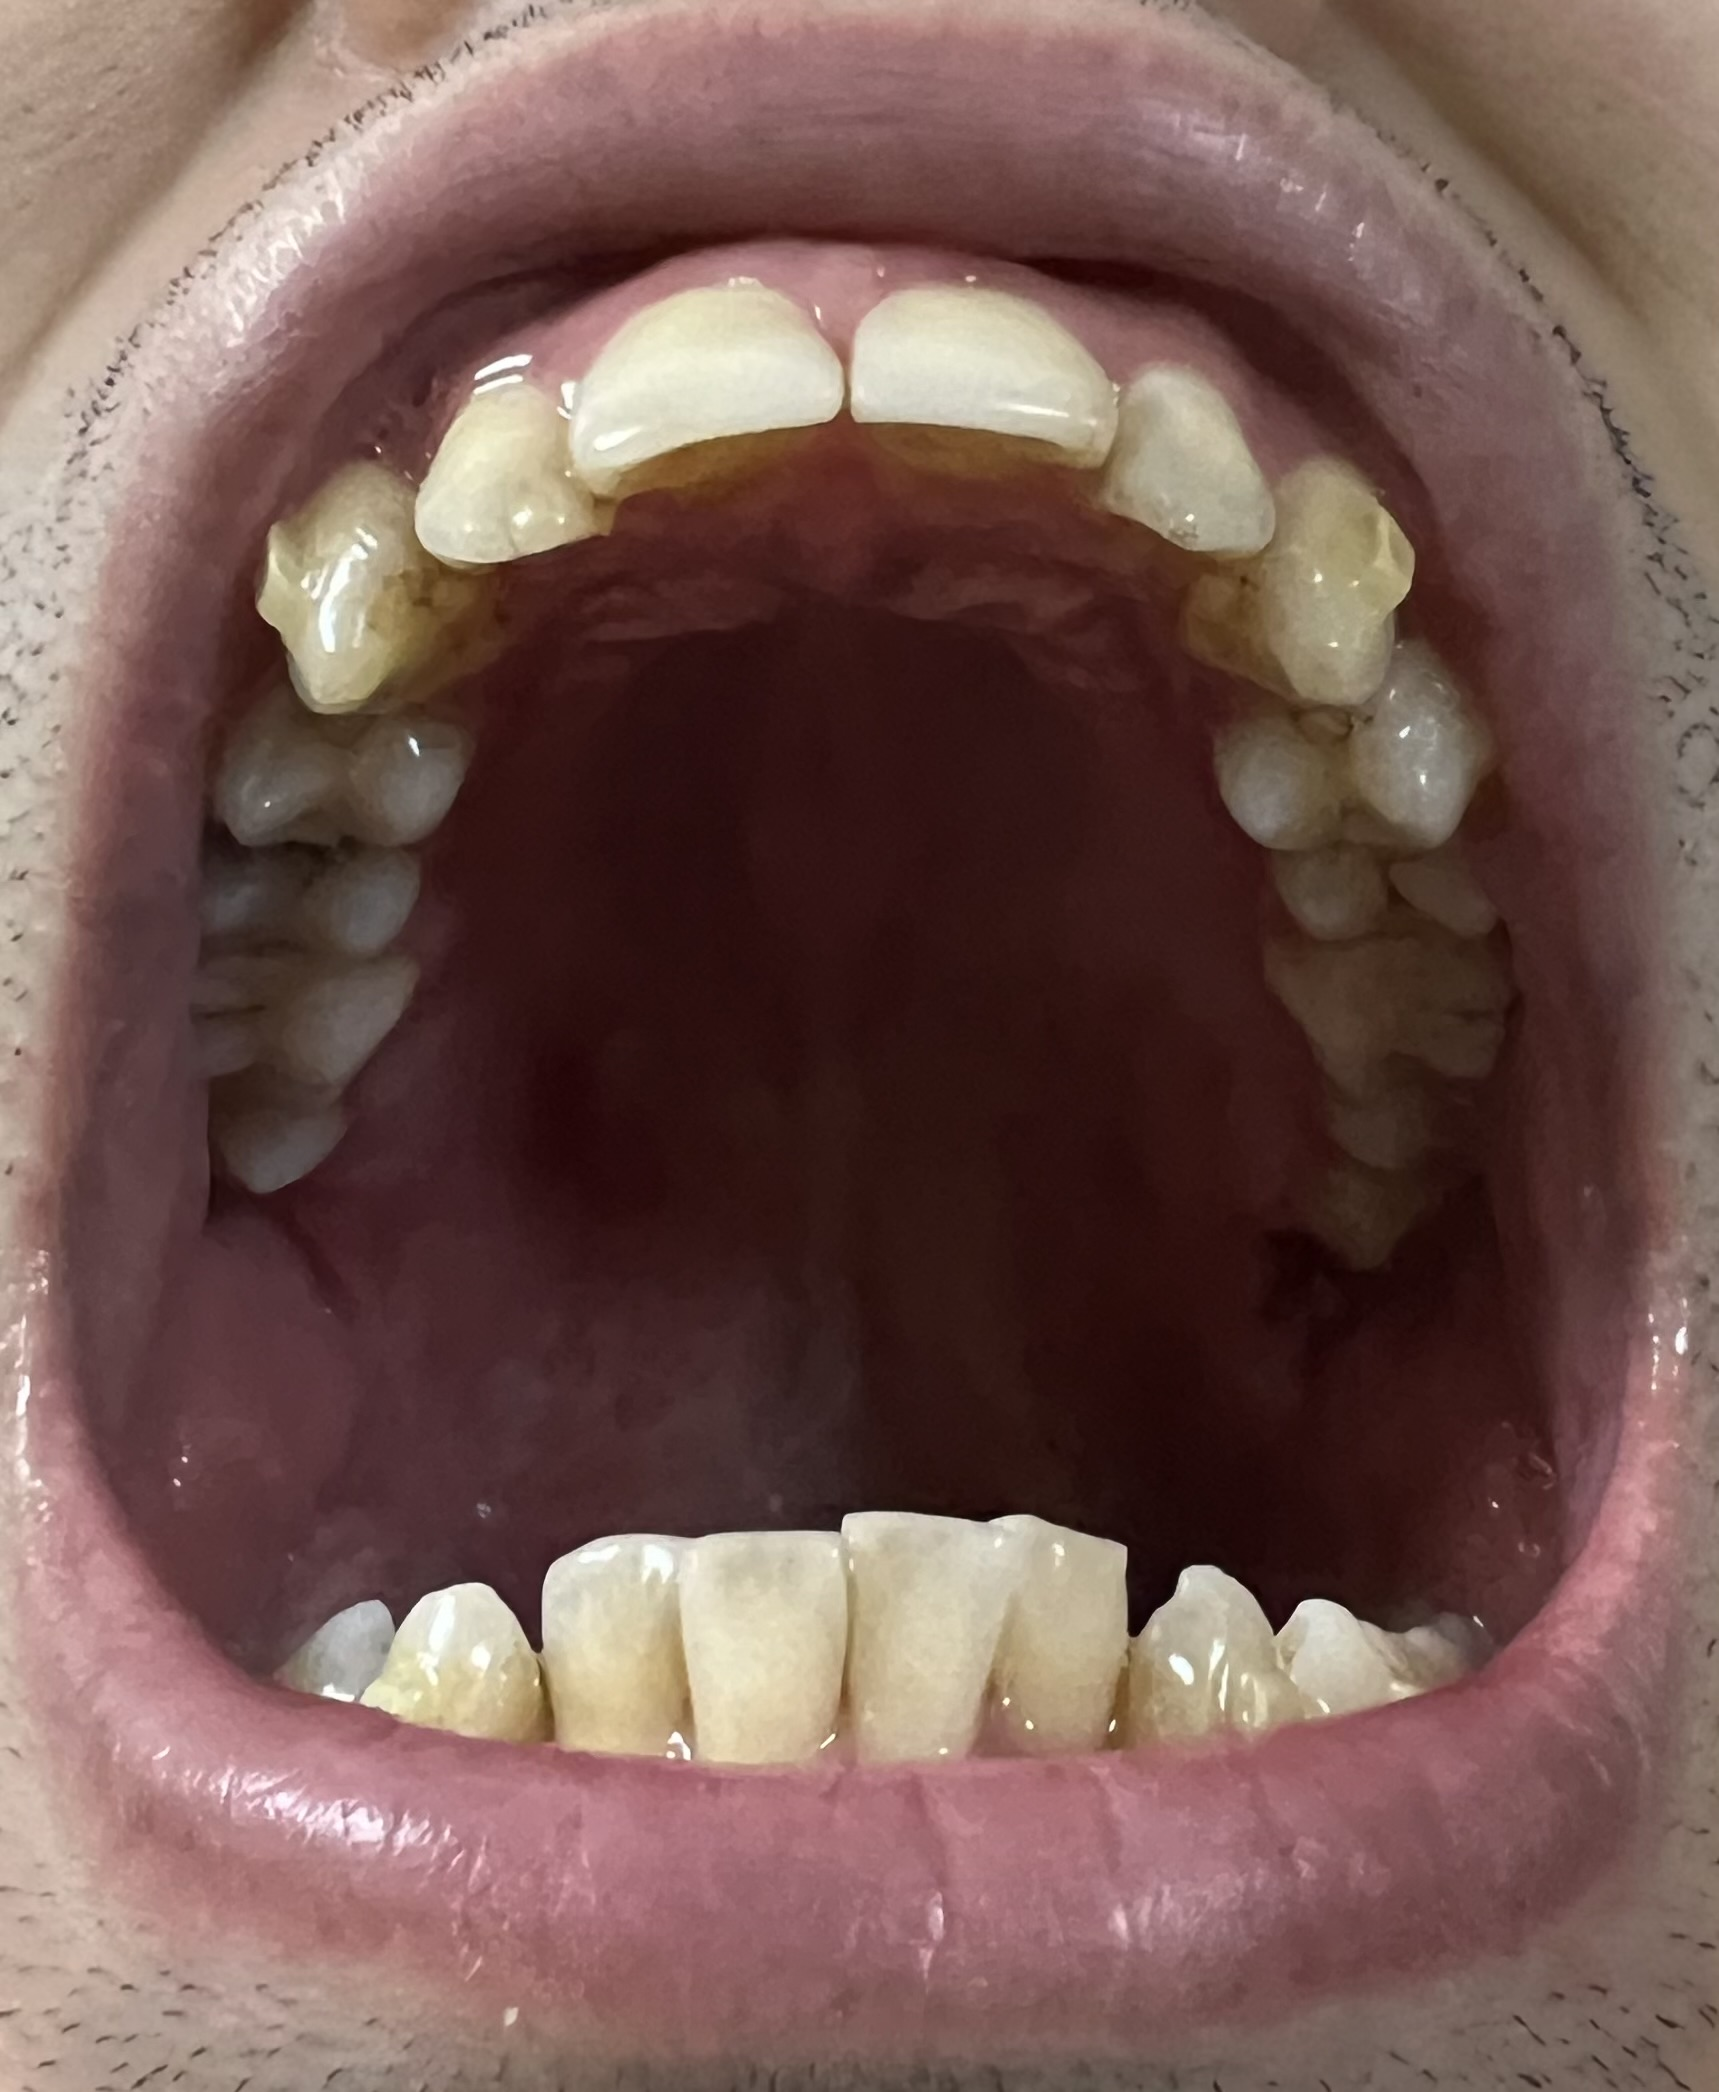teeth: (584, 285, 838, 487), (273, 460, 480, 700), (1217, 674, 1470, 857), (859, 288, 1102, 469), (1203, 485, 1399, 697), (866, 1526, 1013, 1753), (219, 705, 445, 837), (1093, 368, 1255, 546), (700, 1538, 829, 1758), (424, 387, 603, 544), (1005, 1538, 1132, 1736), (546, 1546, 671, 1744), (1140, 1574, 1283, 1731), (203, 858, 398, 952)
